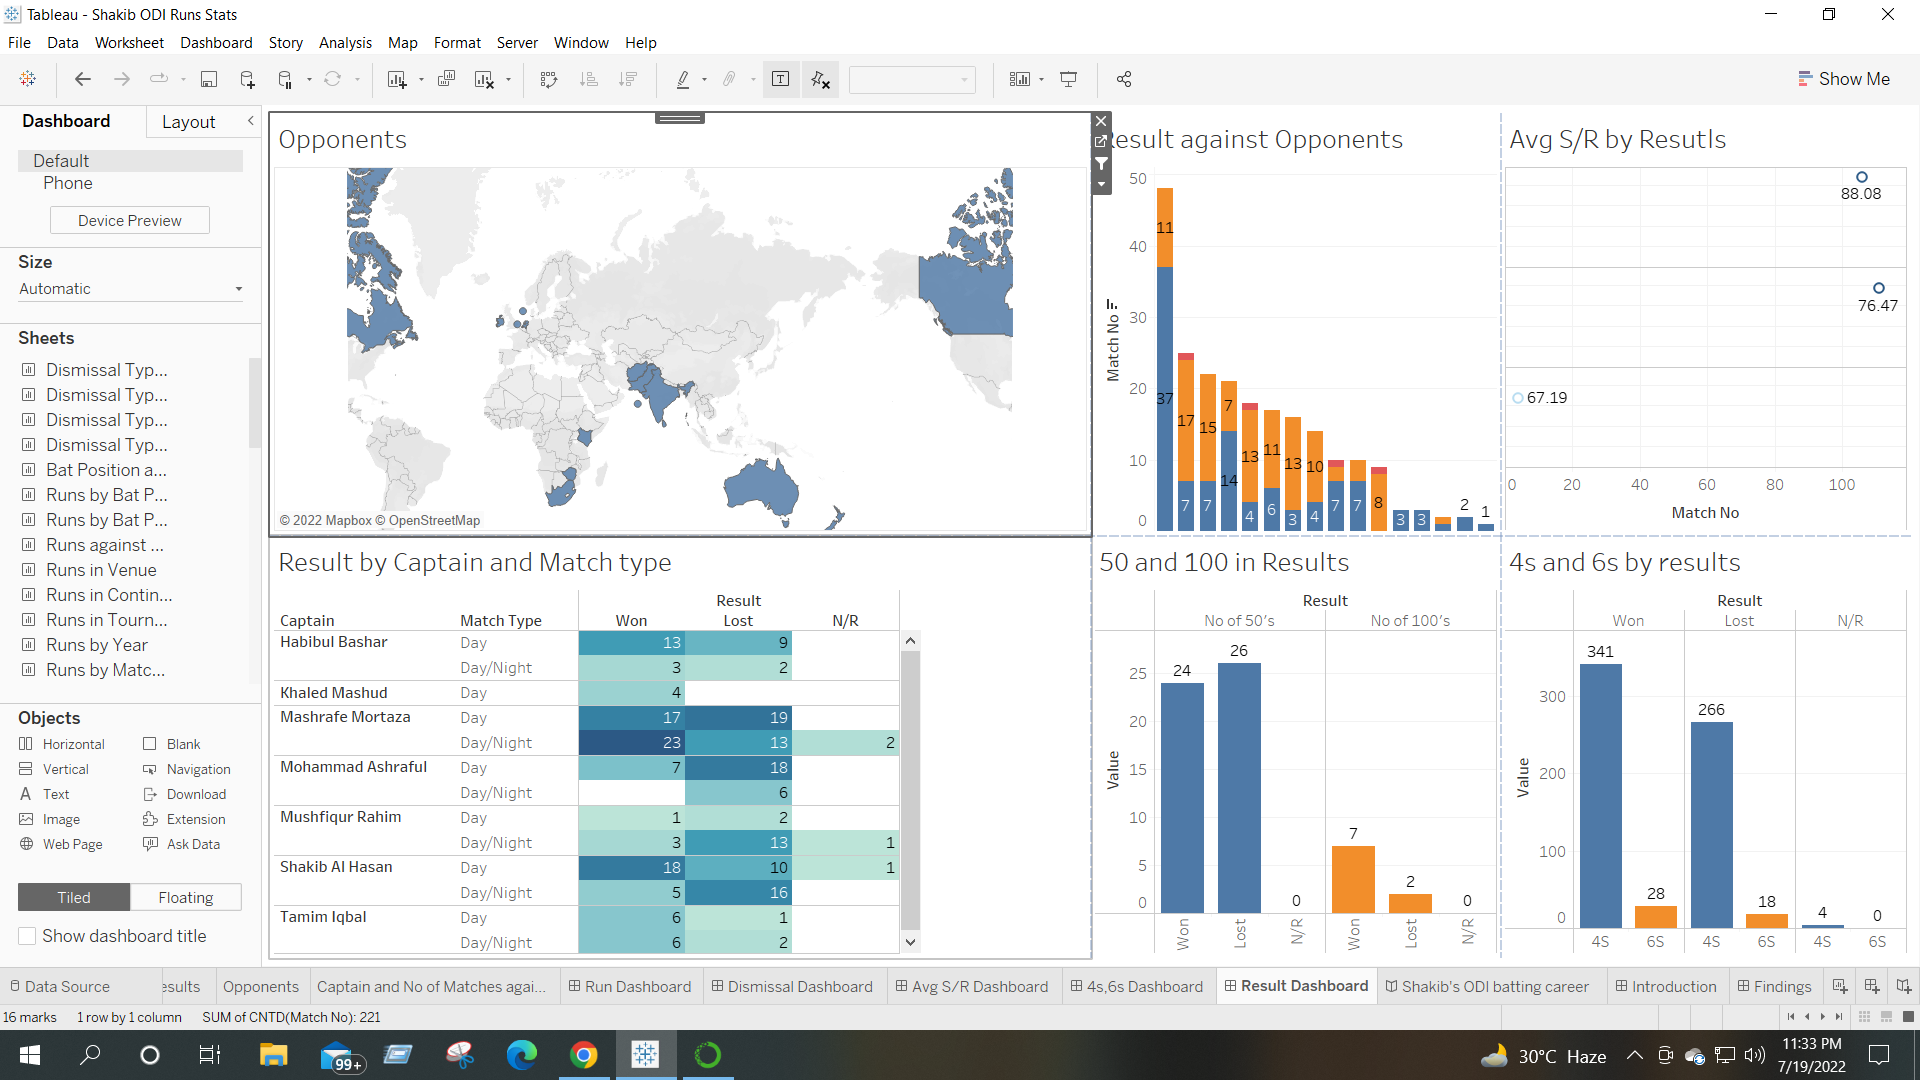

The dashboard page shown, as its layout file describes it:
{"tool":"tableau","page":{"name":"Result Dashboard","canvas":[1000,1000],"units":"permille","ordinal":5},"visuals":[{"type":"worksheet","title":"Opponents","mark":"Multipolygon","box":[4.8,9.3,495.2,490.7]},{"type":"worksheet","title":"Result against Opponents","mark":"Automatic","rows":["Match No"],"cols":["Oppnent"],"box":[500,9.3,247.6,490.7]},{"type":"worksheet","title":"Avg S/R by Resutls","mark":"Shape","rows":["Result","Calculation_353532624427372544"],"cols":["Match No"],"box":[747.6,9.3,247.6,490.7]},{"type":"worksheet","title":"Result by Captain and Match type","mark":"Automatic","rows":["Captain","Match Type"],"cols":["Result"],"box":[4.8,500,495.2,490.7]},{"type":"worksheet","title":"50 and 100 in Results","mark":"Automatic","cols":["Result"],"box":[500,500,247.6,490.7]},{"type":"worksheet","title":"4s and 6s by results","mark":"Automatic","cols":["Result"],"box":[747.6,500,247.6,490.7]}]}

Visuals, with their boxes on the dashboard's canvas, which has no fixed pixel size, in thousandths of its width and height (x1, y1, x2, y2). These are canvas units, not pixel positions in the 1920x1080 screenshot, which may show the page scaled, cropped or inside an application window:
"Opponents" worksheet (Multipolygon marks): 5:9:500:500
"Result against Opponents" worksheet: 500:9:748:500
"Avg S/R by Resutls" worksheet (Shape marks): 748:9:995:500
"Result by Captain and Match type" worksheet: 5:500:500:991
"50 and 100 in Results" worksheet: 500:500:748:991
"4s and 6s by results" worksheet: 748:500:995:991
